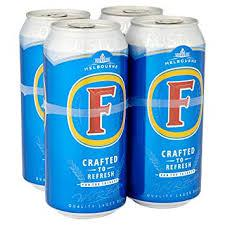beer: (18, 6, 206, 217)
